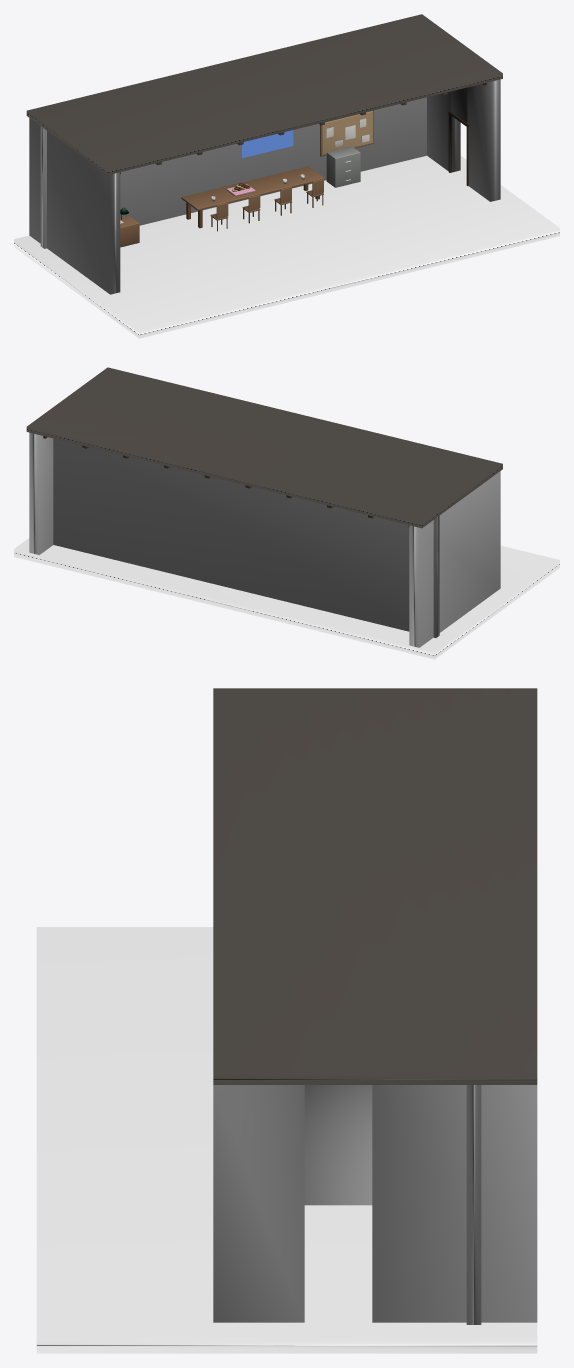
Rendered from station.glb.
3 renders of one model, top to bottom at view 1: azimuth 30°, elevation 25°; view 2: azimuth 150°, elevation 25°; view 3: azimuth 270°, elevation 25°, orthographic. The views are drawn at different scales.
Visible parts, largest first — view 1: Floor, Ceiling, Wall • back, Wall • left, Wall • right b, Wall • right a, Table • top, Corkboard, Filing cabinet, Window • night, Desk, Wall • over door; view 2: Wall • back, Ceiling, Floor, Wall • left, Wall • right a; view 3: Ceiling, Floor, Wall • right a, Wall • right b, Wall • over door, Wall • back.
Part boxes in pixels (left/top/right/bottom): Floor: left=14, top=155, right=559, bottom=338; Ceiling: left=26, top=14, right=502, bottom=174; Wall • back: left=40, top=97, right=426, bottom=248; Wall • left: left=29, top=118, right=120, bottom=294; Wall • right b: left=467, top=79, right=500, bottom=201; Wall • right a: left=427, top=91, right=460, bottom=172; Table • top: left=181, top=166, right=324, bottom=210; Corkboard: left=322, top=111, right=372, bottom=155; Filing cabinet: left=326, top=146, right=360, bottom=187; Window • night: left=242, top=130, right=293, bottom=158; Desk: left=120, top=215, right=139, bottom=247; Wall • over door: left=450, top=87, right=467, bottom=123; Wall • back: left=53, top=438, right=439, bottom=637; Ceiling: left=26, top=367, right=502, bottom=528; Floor: left=14, top=538, right=559, bottom=659; Wall • left: left=409, top=471, right=500, bottom=647; Wall • right a: left=29, top=432, right=53, bottom=554; Ceiling: left=213, top=688, right=537, bottom=1084; Floor: left=36, top=927, right=537, bottom=1353; Wall • right a: left=372, top=1085, right=537, bottom=1322; Wall • right b: left=213, top=1085, right=304, bottom=1322; Wall • over door: left=304, top=1085, right=372, bottom=1205; Wall • back: left=466, top=1085, right=481, bottom=1324.
Bounding box in the file's own units: 33 × 10 × 17.
